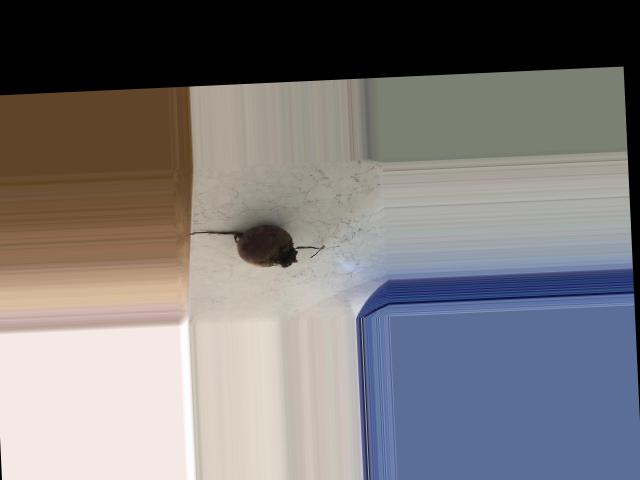beet: (185, 222, 325, 271)
